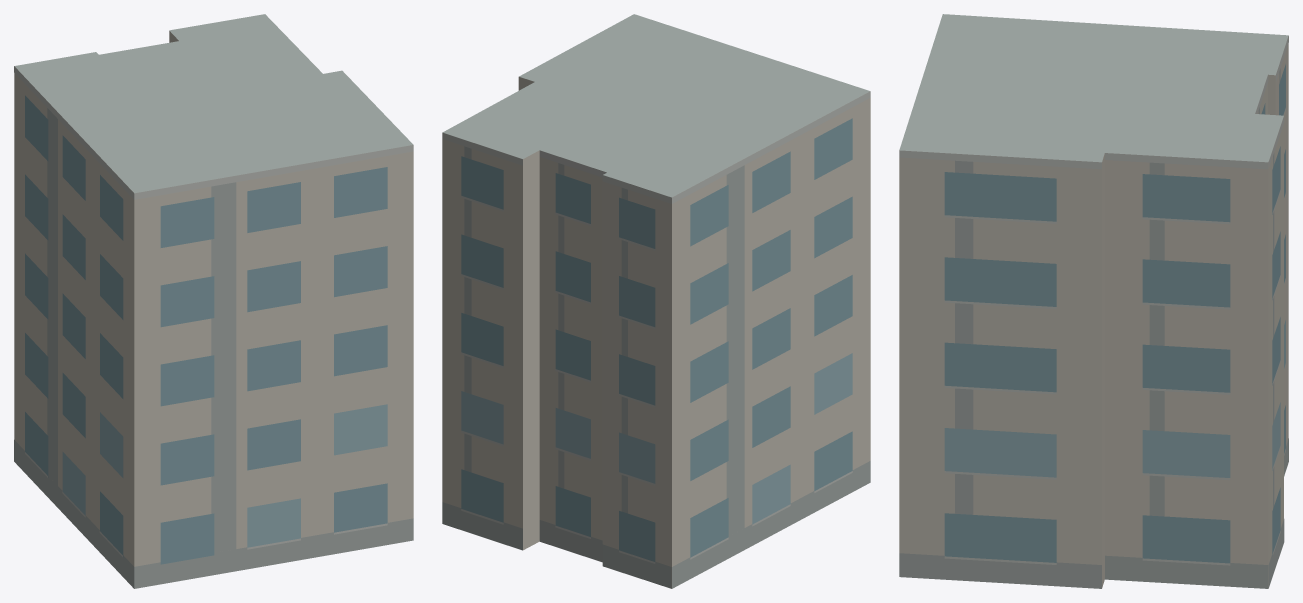
File: survey-upis-32944559.glb
3 views of the same model, side by side, from view 1: azimuth 30°, elevation 25°; view 2: azimuth 150°, elevation 25°; view 3: azimuth 270°, elevation 25° (orthographic). The views are drawn at different scales.
Visible parts, largest first — view 1: survey-upis-32944559.tmp; view 2: survey-upis-32944559.tmp; view 3: survey-upis-32944559.tmp.
Boxes of the visible parts, box(x1,y1,x2,y2) form: survey-upis-32944559.tmp: box(14, 14, 413, 588); survey-upis-32944559.tmp: box(442, 14, 870, 588); survey-upis-32944559.tmp: box(899, 14, 1288, 588).
Size of the model in its own units: 10.97 by 14.7 by 12.18.
